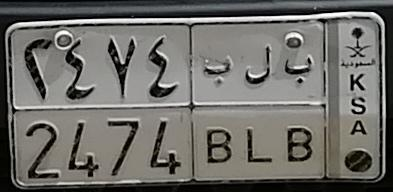2: (24, 38, 60, 180)
4: (65, 37, 101, 179), (146, 35, 181, 176)
7: (106, 35, 141, 176)
B: (203, 55, 234, 164), (285, 55, 315, 162)
L: (244, 43, 274, 164)
